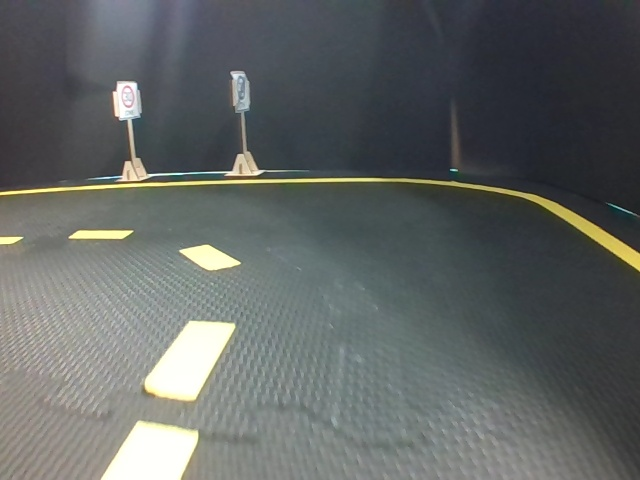30: (117, 80, 137, 117)
no30: (233, 73, 252, 110)
